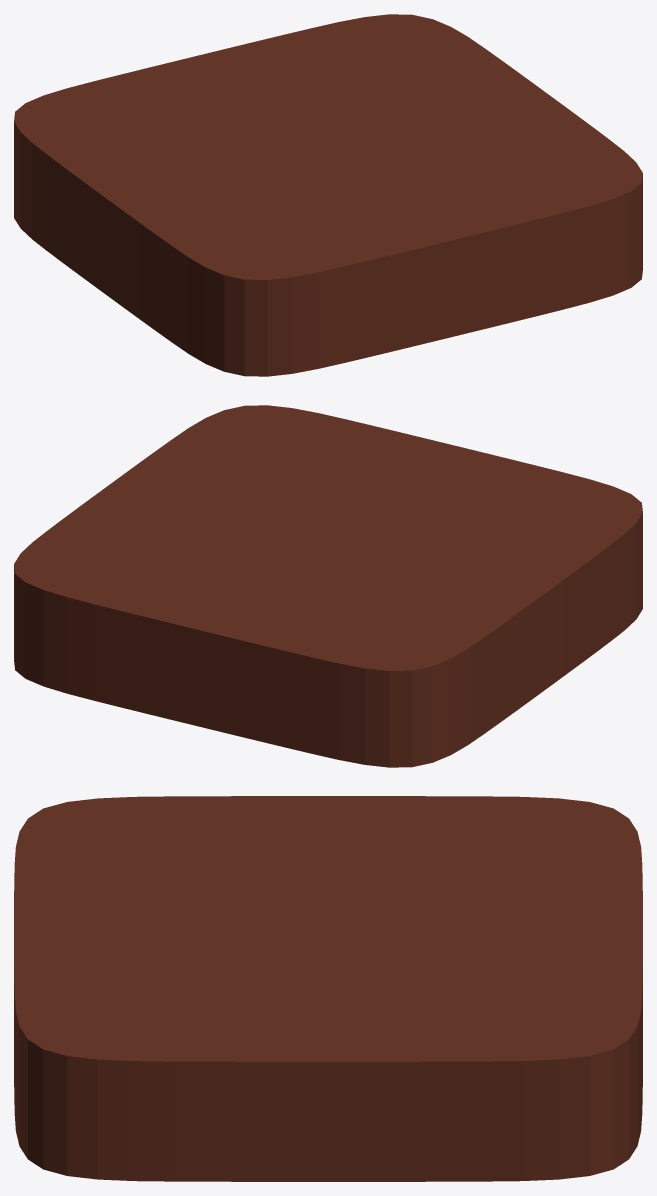
File: tile_blank_3.glb
3 views of the same model, one above another, from view 1: azimuth 30°, elevation 25°; view 2: azimuth 150°, elevation 25°; view 3: azimuth 270°, elevation 25° (orthographic). The views are drawn at different scales.
Parts seen in each view (by area): view 1: obj_tile_blank_3; view 2: obj_tile_blank_3; view 3: obj_tile_blank_3.
Boxes of the visible parts, x1,y1,x2,y2 form: obj_tile_blank_3: [14, 14, 642, 376]; obj_tile_blank_3: [14, 405, 642, 767]; obj_tile_blank_3: [14, 796, 642, 1181].
Bounding box in the file's own units: 0.95 × 0.2 × 0.95.
